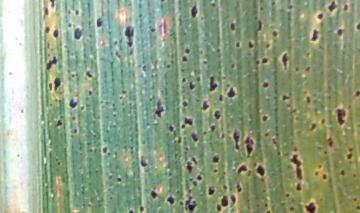tarspot: (289, 152, 307, 181), (123, 23, 136, 48), (152, 97, 166, 119), (334, 106, 348, 127), (243, 134, 255, 158), (254, 162, 268, 180), (231, 126, 241, 151), (184, 194, 197, 213), (44, 55, 59, 70), (225, 84, 238, 100), (180, 115, 196, 128), (309, 27, 321, 44), (207, 75, 218, 93), (280, 50, 289, 72), (71, 26, 84, 41), (304, 198, 317, 213), (188, 4, 200, 20), (138, 153, 149, 170), (209, 151, 222, 165), (326, 1, 339, 15), (66, 96, 79, 109), (189, 130, 200, 145), (236, 161, 247, 176), (165, 193, 177, 206), (205, 184, 217, 197), (93, 15, 104, 29), (345, 145, 354, 162), (53, 74, 61, 92), (174, 133, 186, 145), (44, 80, 54, 94), (149, 187, 159, 201), (212, 108, 222, 122), (184, 159, 193, 174), (255, 19, 264, 34), (84, 68, 95, 80), (334, 26, 345, 38), (260, 112, 270, 125), (294, 181, 304, 194), (234, 180, 244, 193), (326, 133, 334, 149), (200, 98, 209, 112), (233, 37, 242, 51), (220, 194, 229, 208), (309, 120, 318, 134), (179, 98, 190, 109), (147, 25, 158, 36), (40, 6, 50, 18), (179, 54, 191, 64), (315, 10, 325, 22), (261, 79, 271, 91), (269, 29, 281, 39), (228, 20, 237, 33), (187, 79, 196, 92), (279, 93, 292, 102), (229, 192, 237, 206), (341, 2, 351, 13), (220, 181, 230, 192), (114, 175, 125, 185), (71, 125, 80, 137), (246, 38, 255, 50), (52, 27, 60, 40), (167, 121, 175, 134), (183, 45, 193, 55), (302, 63, 312, 73), (55, 118, 64, 129), (100, 144, 109, 155), (321, 172, 330, 183), (338, 168, 347, 179), (319, 115, 326, 129), (276, 147, 283, 161), (43, 24, 51, 36), (352, 87, 360, 99), (262, 55, 269, 68), (195, 172, 204, 182), (214, 204, 224, 213), (287, 204, 297, 213), (48, 1, 59, 9), (138, 202, 146, 213), (73, 7, 81, 18), (283, 190, 291, 201), (125, 206, 137, 213), (208, 123, 216, 133), (264, 41, 272, 51), (253, 58, 261, 68), (354, 20, 360, 33), (212, 165, 219, 176), (218, 92, 224, 104), (305, 95, 312, 105)
